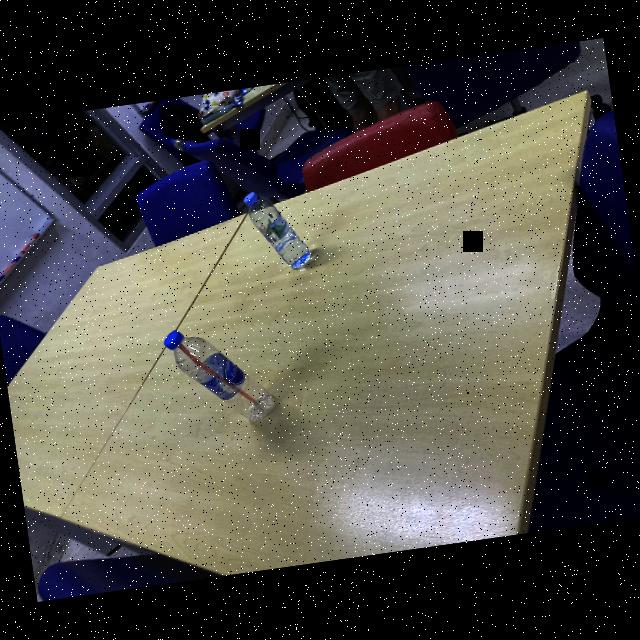plastic_bottle: (160, 316, 278, 434), (238, 184, 314, 276)
plastic_bottle_cap: (162, 331, 182, 350), (242, 190, 258, 208)
straw: (173, 332, 258, 416)
